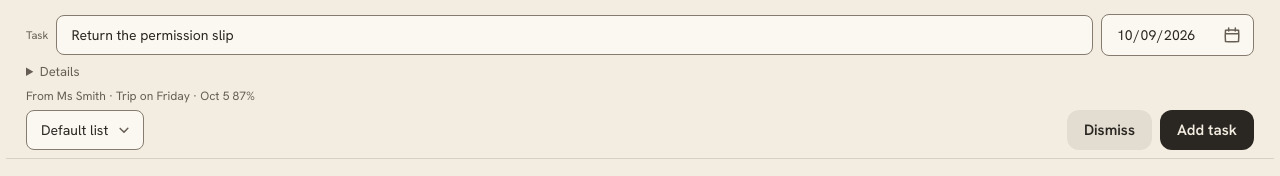
it: a task suggestion › will not approve a row with no title
Clear the field named "Title": (575, 35) [56,15,1093,55]
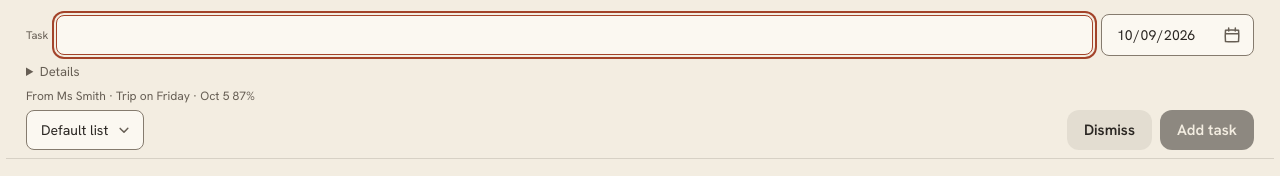
Check: the button "Add task" is disabled, box [1160,110,1254,150]
